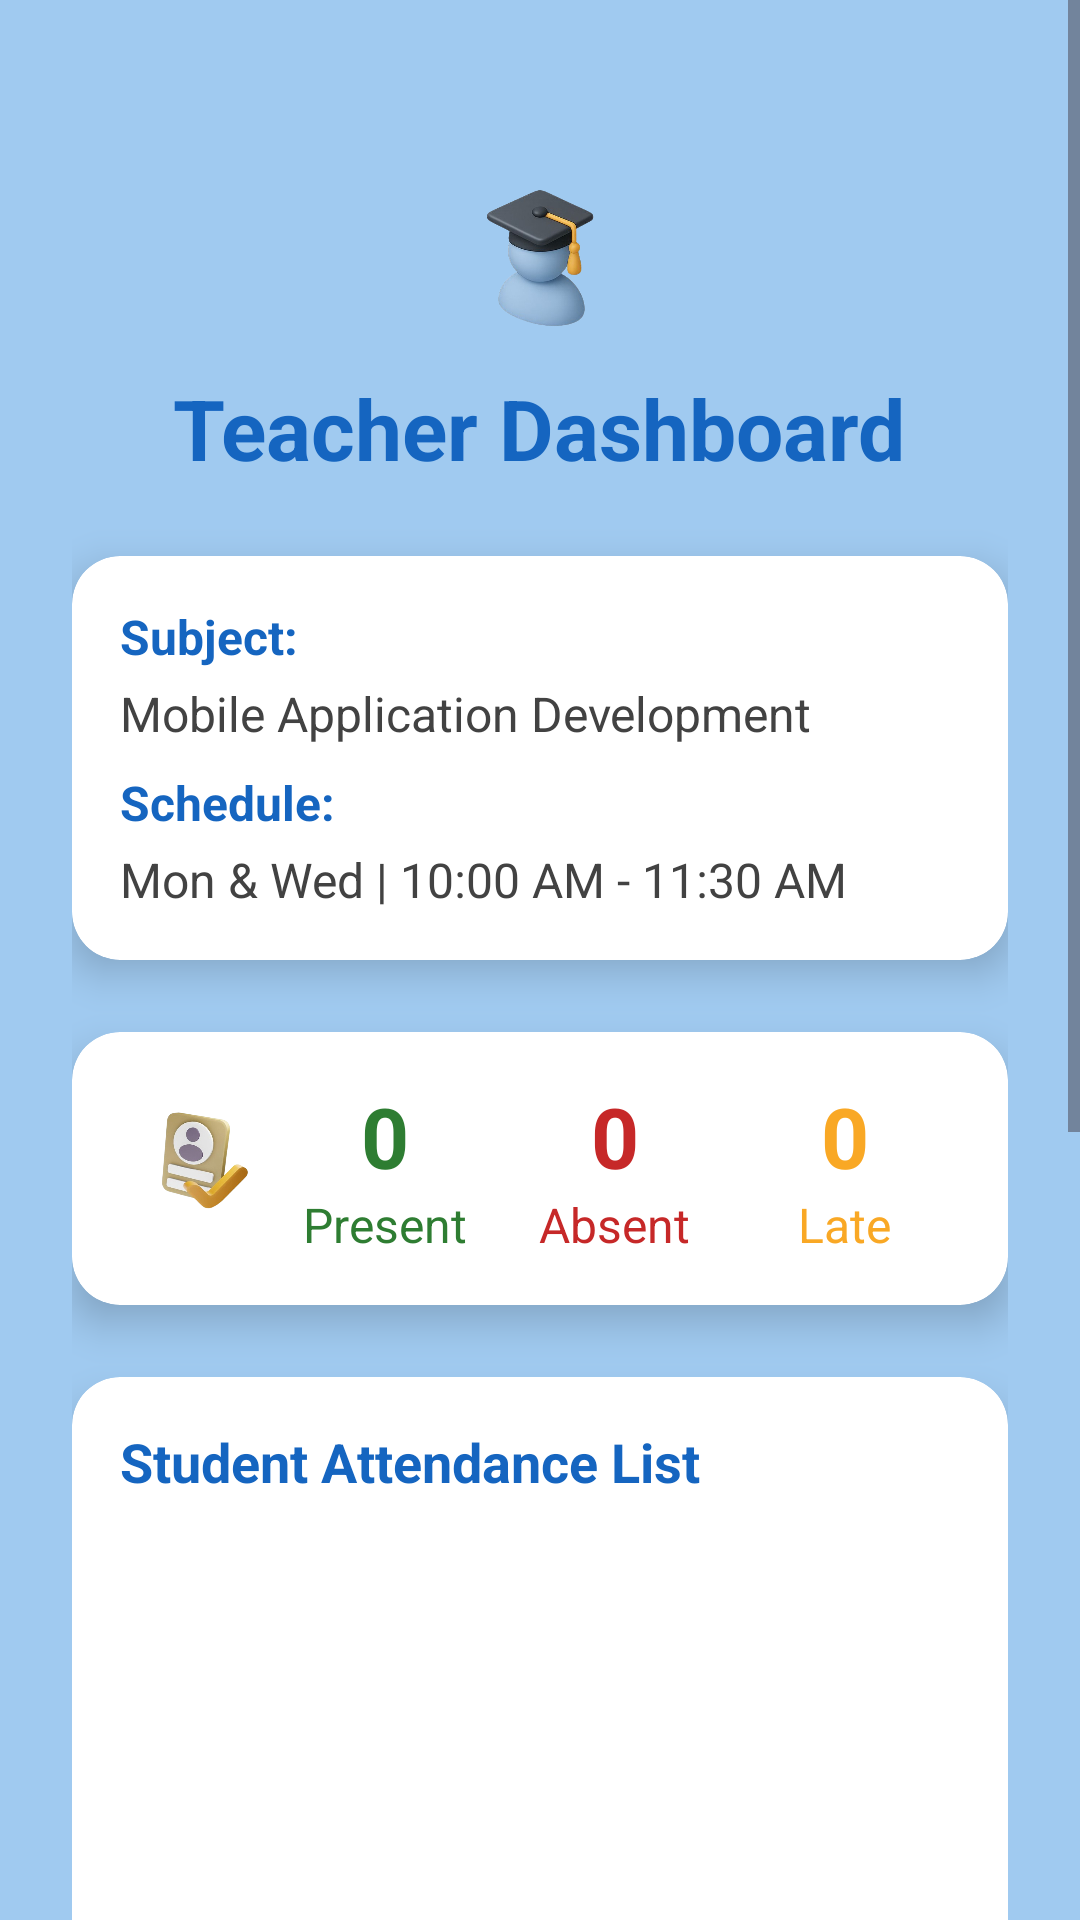

Screen size 1080x1920. Icon name, then its center in pixels as [x,y]:
attendance pic: [205,1160]
